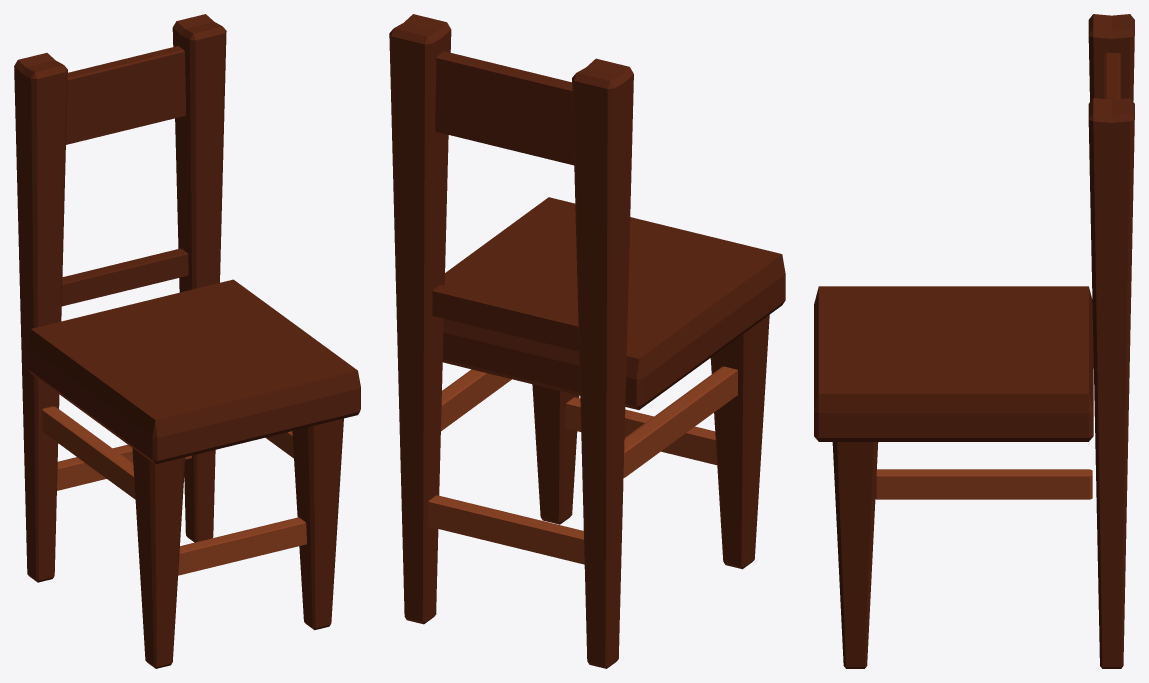
File: hh_chair.glb
3 renders of one model, left to right at view 1: azimuth 30°, elevation 25°; view 2: azimuth 150°, elevation 25°; view 3: azimuth 270°, elevation 25°, orthographic. The views are drawn at different scales.
Visible parts, largest first — view 1: Chair_A; view 2: Chair_A; view 3: Chair_A.
Boxes of the visible parts, <box> form: Chair_A: <box>14,14,360,668</box>; Chair_A: <box>389,14,785,668</box>; Chair_A: <box>814,14,1134,668</box>.
Size of the model in its own units: 0.4122 by 0.9733 by 0.5059.
